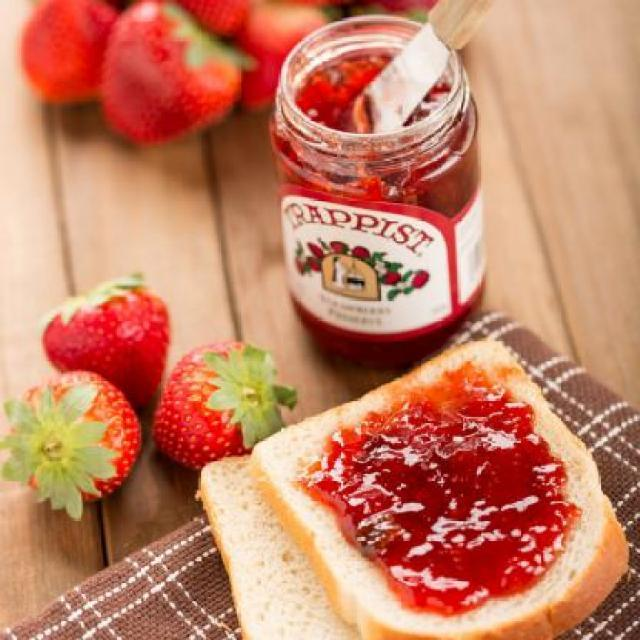Spread: (287, 370, 578, 616)
